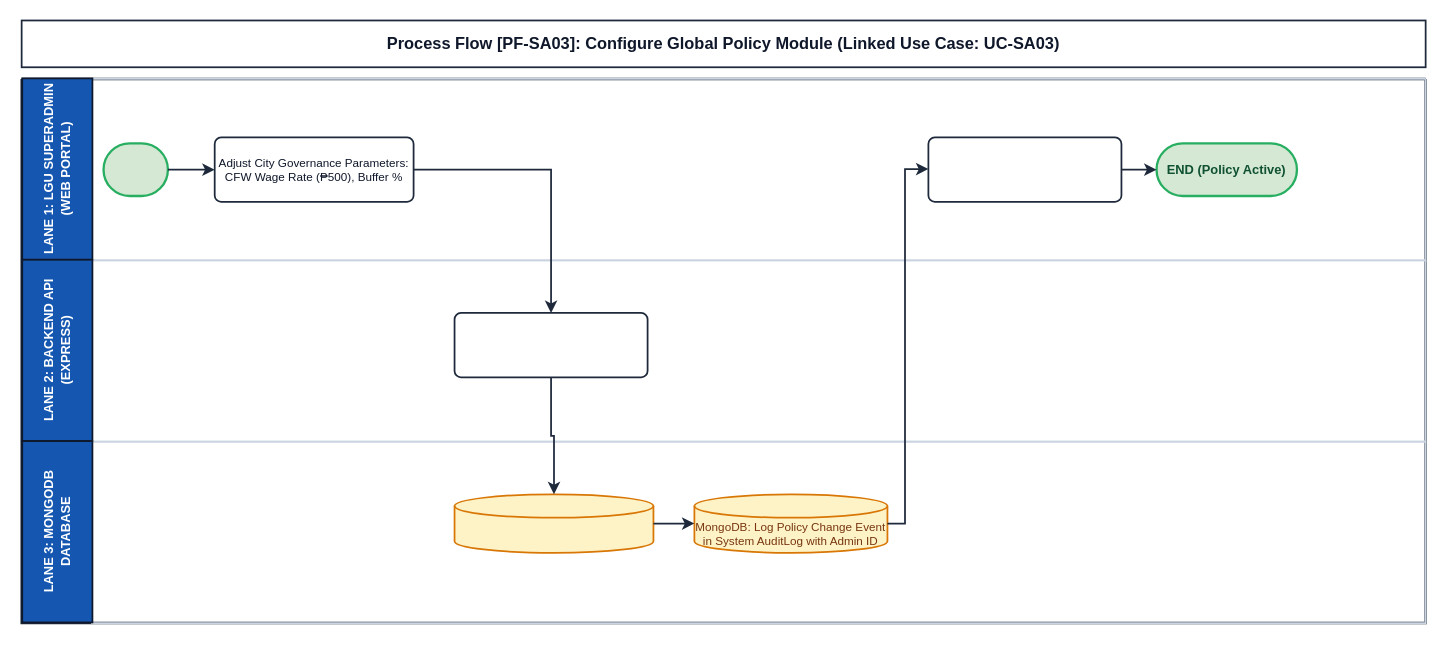
Some shapes in this 1446 by 645 pixel diagram are drawn without their labels. The shapes that lost their labels are listed below. From the top down, each one's centre as x and y in pixels, then its label:
the point at 135,169: START
the point at 1024,169: Socket.IO: Synchronize New Formulas across Web Admin & Mobile Services
the point at 550,345: PUT /api/policy Global PolicyConfig Payload
the point at 553,523: MongoDB: Update PolicyConfig Document in Database Master Collection
